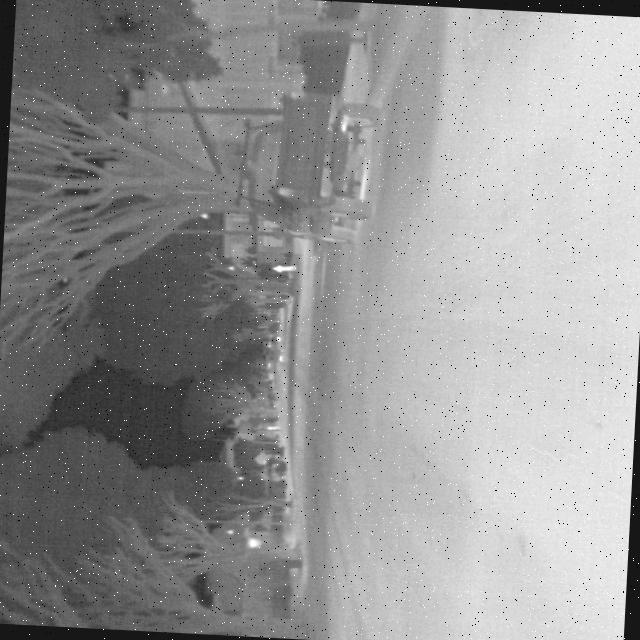Pedestrian: (272, 262, 298, 272)
Vehicle: (232, 88, 382, 247)
